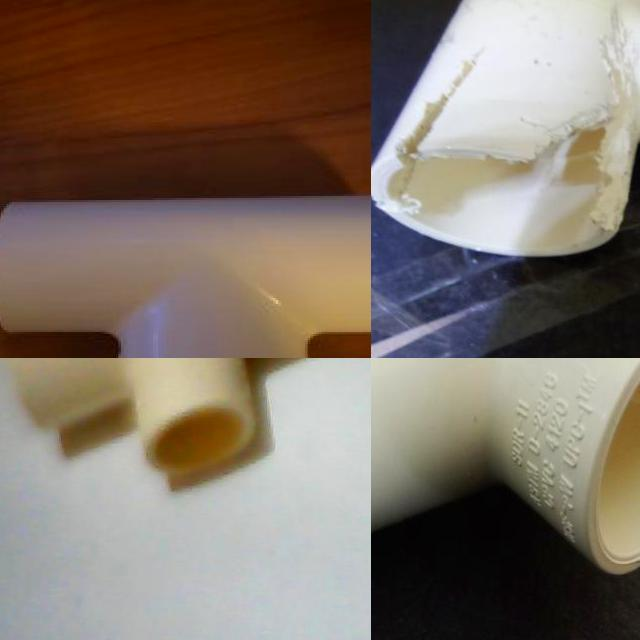Defective: (416, 67, 473, 155), (550, 108, 612, 188), (605, 8, 640, 90), (404, 162, 466, 204)
T Joint: (0, 195, 371, 358), (371, 358, 640, 578)
